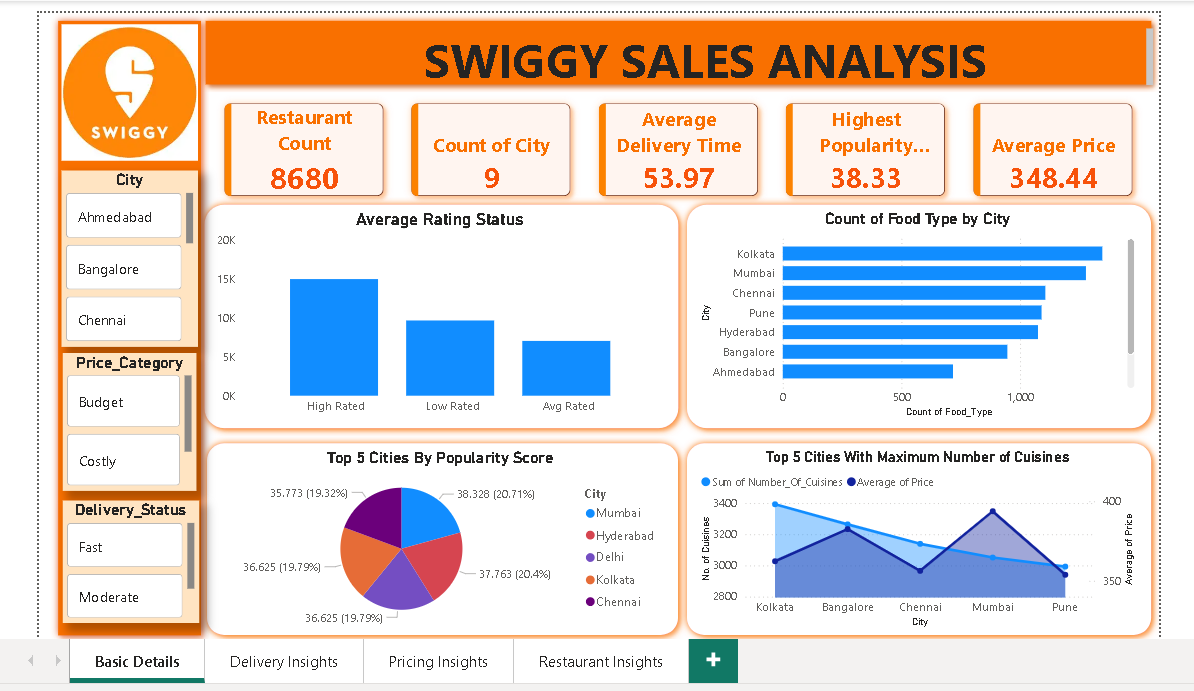

Layout of this report page (visuals, bound fields, positions):
{"tool":"powerbi","page":{"name":"Basic Details","canvas":[1280,720],"ordinal":0},"visuals":[{"type":"cardVisual","fields":{"Data":["CountNonNull(public swiggy.Restaurant)","Count(public swiggy.City)","public swiggy.Avg_Del_time","public swiggy.Avg_Pop_Score","public swiggy.Avg_Price"]},"box":[181.3,73.1,1098.8,167],"z":0},{"type":"shape","box":[179.7,209.9,559.7,273.5],"z":1000},{"type":"clusteredColumnChart","title":"Average Rating Status","fields":{"Category":["public swiggy.Rating_Status"],"Y":["Sum(public swiggy.Avg_Ratings)"]},"box":[200.4,224.2,516.8,243.3],"z":2000},{"type":"shape","box":[182.9,483.4,556.5,236.9],"z":3000},{"type":"shape","box":[181.3,0,1098.8,90.6],"z":4000},{"type":"textbox","box":[181.3,12.7,1097.2,77.9],"z":5000},{"type":"shape","box":[12.7,0,181.3,720.3],"z":6000},{"type":"pieChart","title":"Top 5 Cities By Popularity Score","fields":{"Category":["public swiggy.City"],"Y":["public swiggy.Max_Pop_Score"]},"box":[200.4,497.7,516.8,209.9],"z":7000},{"type":"image","box":[25.4,12.7,155.8,155.8],"z":8000},{"type":"advancedSlicerVisual","fields":{"Values":["public swiggy.City"]},"box":[25.4,179.7,155.8,201.9],"z":9000},{"type":"advancedSlicerVisual","fields":{"Values":["public swiggy.Price_Category"]},"box":[27,388,152.7,157.4],"z":10000},{"type":"advancedSlicerVisual","fields":{"Values":["public swiggy.Delivery_Status"]},"box":[27,556.5,155.8,139.9],"z":11000},{"type":"shape","box":[731.5,209.9,548.6,273.5],"z":12000},{"type":"barChart","title":"Count of Food Type by City","fields":{"Category":["public swiggy.City"],"Y":["CountNonNull(public swiggy.Food_Type)"]},"box":[752.1,224.2,505.7,243.3],"z":13000},{"type":"shape","box":[731.5,483.4,548.6,236.9],"z":14000},{"type":"areaChart","title":"Top 5 Cities With Maximum Number of Cuisines","fields":{"Category":["public swiggy.City"],"Y":["Sum(public swiggy.Number_Of_Cuisines)"],"Y2":["Avg(public swiggy.Price)"]},"box":[752.1,497.7,505.7,209.9],"z":15000}]}

Visuals, with their boxes on the page's 1280x720 design canvas (x1, y1, x2, y2). These are canvas units, not pixel positions in the 1194x691 screenshot, which may show the page scaled, cropped or inside an application window:
cardVisual - CountNonNull(public swiggy.Restaurant) x Count(public swiggy.City): crop(181, 73, 1280, 240)
shape: crop(180, 210, 739, 483)
"Average Rating Status" clusteredColumnChart: crop(200, 224, 717, 468)
shape: crop(183, 483, 739, 720)
shape: crop(181, 0, 1280, 91)
textbox: crop(181, 13, 1278, 91)
shape: crop(13, 0, 194, 720)
"Top 5 Cities By Popularity Score" pieChart: crop(200, 498, 717, 708)
image: crop(25, 13, 181, 168)
advancedSlicerVisual - public swiggy.City: crop(25, 180, 181, 382)
advancedSlicerVisual - public swiggy.Price_Category: crop(27, 388, 180, 545)
advancedSlicerVisual - public swiggy.Delivery_Status: crop(27, 556, 183, 696)
shape: crop(732, 210, 1280, 483)
"Count of Food Type by City" barChart: crop(752, 224, 1258, 468)
shape: crop(732, 483, 1280, 720)
"Top 5 Cities With Maximum Number of Cuisines" areaChart: crop(752, 498, 1258, 708)
